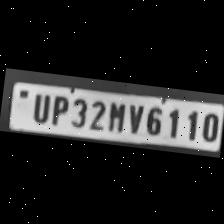0: (196, 108, 221, 140)
1: (161, 104, 184, 138), (177, 106, 200, 140)
2: (85, 94, 107, 130)
3: (66, 92, 88, 127)
6: (140, 100, 165, 136)
M: (103, 97, 127, 132)
P: (47, 92, 70, 125)
U: (26, 88, 51, 122)
V: (121, 98, 144, 133)
